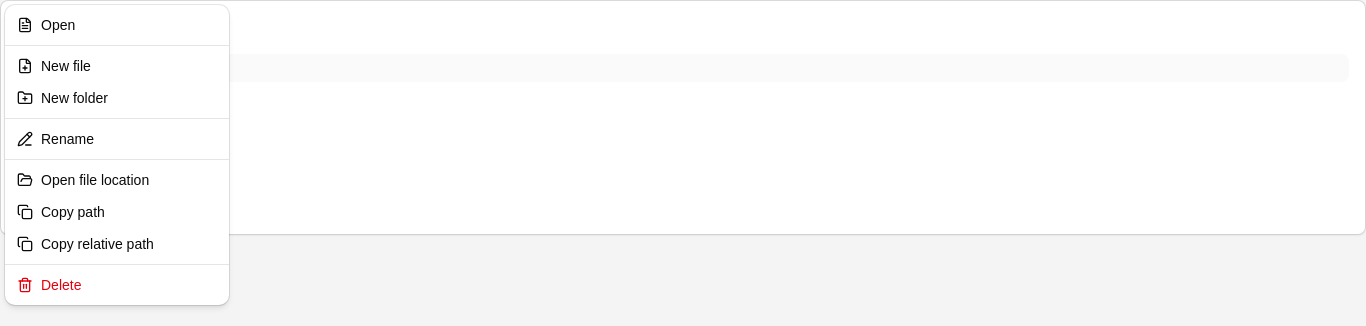
Scenario: article-navigator entry actions › keeps editing after a refused rename on Enter
The image size is (1366, 326).
Click the menu item "Rename" at {"x": 55, "y": 139}, box [17,131,94,147]
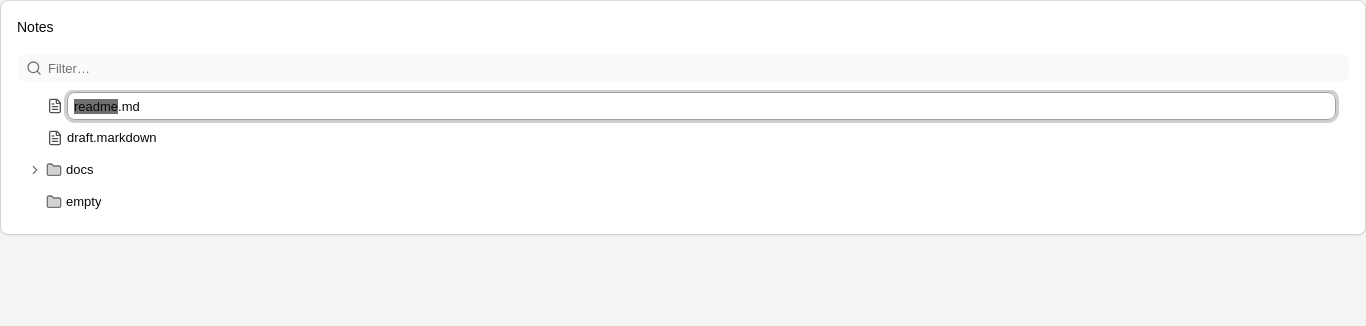
Type keys "draft{Enter}"
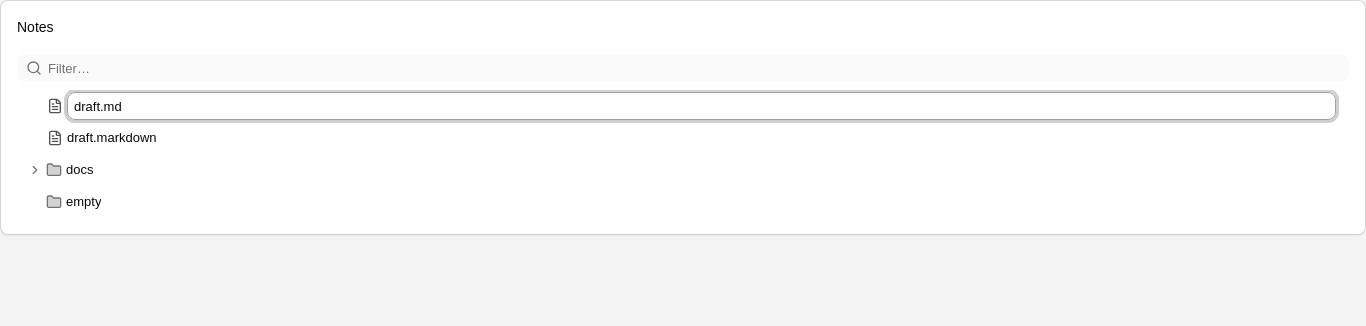
Expected: the field named "File name" holds "draft.md", [67,92,1336,120]
